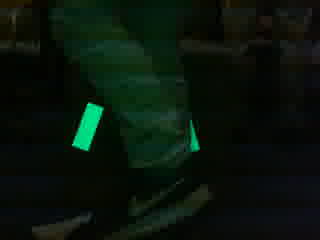target: (71, 100, 201, 153)
